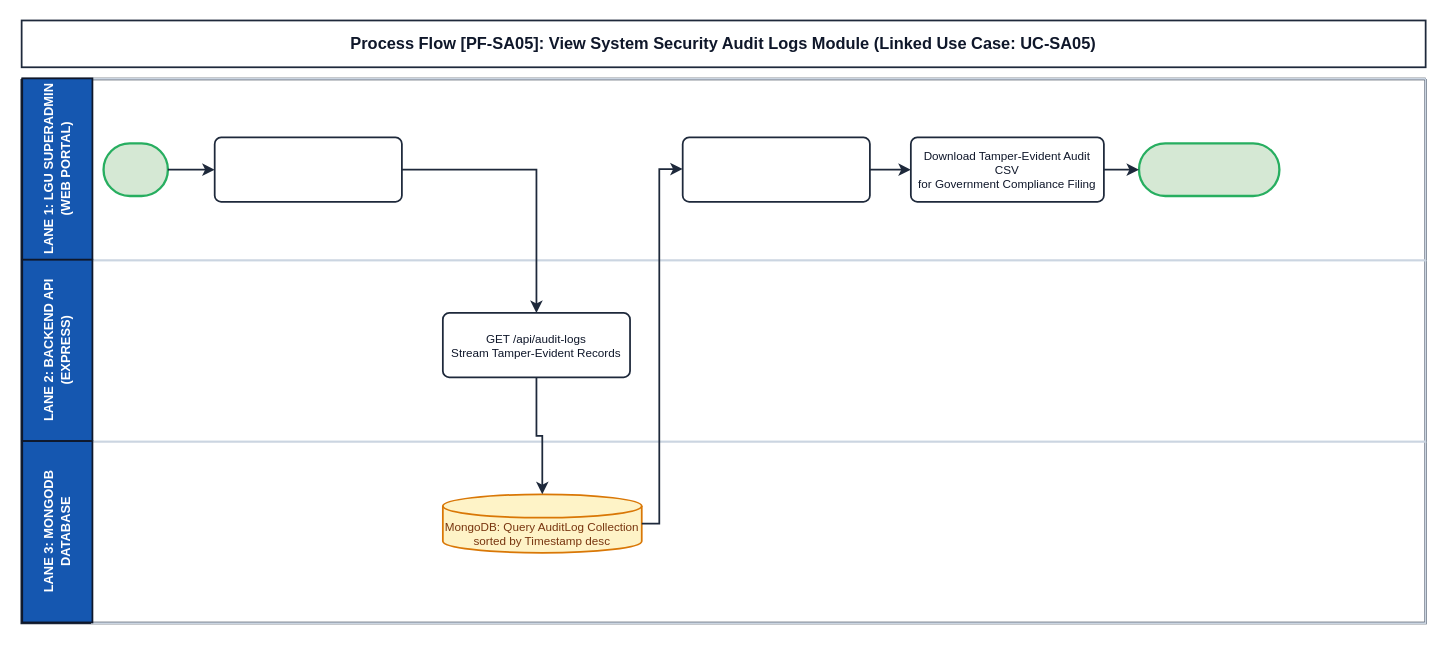
Image size: 1446x645. Some labels were removed from this diagram. Each missing label, with the centre of its shape:
END (Audit Verified): [1208,169]
Open System Audit Logs; Filter by Actor, Action, or Date: [307,169]
Render Live Audit Stream Table; Click "Export Audit Trail CSV": [775,169]
START: [135,169]
